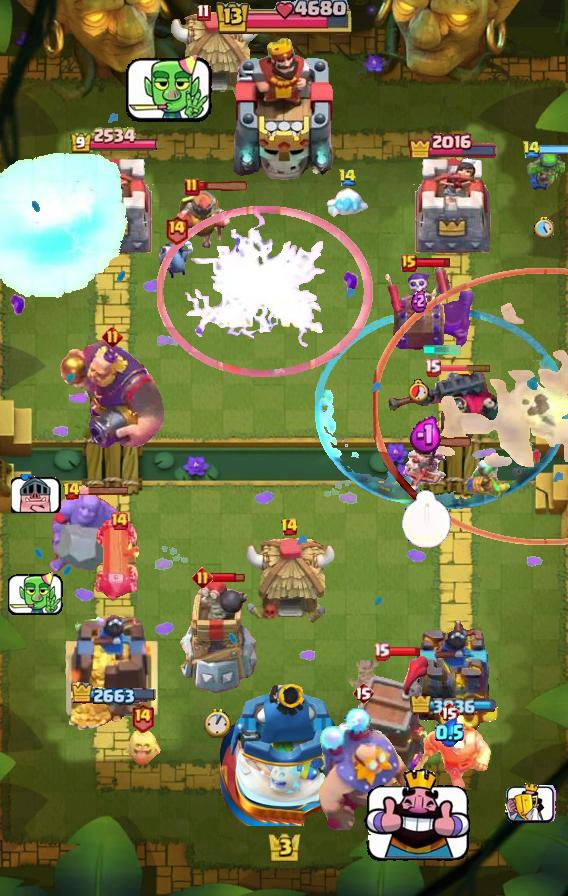archer-queen: (44, 490, 126, 578)
barbarian-evolution: (158, 206, 375, 378)
bat: (326, 186, 368, 224)
bat-evolution: (121, 729, 163, 767)
battle-healer: (92, 520, 146, 602)
bomb-tower: (435, 291, 473, 351)
clock: (213, 0, 355, 38)
dart-goblin: (352, 656, 430, 776)
earthquake: (175, 186, 233, 250)
electro-spirit: (408, 416, 444, 455), (435, 717, 464, 746), (411, 289, 427, 313)
elixir: (400, 490, 452, 549), (205, 708, 232, 738), (409, 378, 429, 402), (534, 217, 554, 239)
emote: (78, 484, 130, 496), (198, 180, 250, 191), (422, 437, 474, 448), (438, 363, 492, 372), (210, 571, 245, 583), (416, 257, 453, 268), (387, 647, 421, 658), (538, 145, 568, 156)
fisherman: (345, 659, 389, 709)
giant-snowball: (463, 456, 513, 500), (523, 152, 565, 192)
goblin-hut: (405, 716, 493, 792)
ice-spirit: (422, 345, 462, 355)
inferno-tower: (384, 367, 500, 453)
king-tower: (219, 678, 349, 826), (228, 35, 340, 181)
lightning: (56, 337, 168, 449)
little-prince: (309, 706, 417, 832)
mega-knight: (0, 152, 131, 302)
pad_0: (316, 307, 568, 513)
prince: (167, 10, 261, 100), (242, 536, 336, 626)
queen-tower: (62, 613, 165, 731), (405, 617, 501, 731), (74, 157, 154, 256), (413, 157, 493, 256)
royal-delivery: (156, 237, 196, 281)
royal-ghost: (373, 267, 568, 545)
selected: (409, 130, 500, 158), (69, 127, 159, 155), (70, 682, 157, 708), (411, 696, 498, 715)
skeleton: (364, 768, 471, 864), (125, 48, 215, 126), (7, 568, 65, 618), (505, 783, 557, 824), (10, 474, 61, 513)
skeleton-dragon: (404, 439, 448, 499)
skeleton-king-bar: (385, 266, 453, 352)
text: (163, 214, 188, 245), (130, 702, 154, 733), (352, 681, 374, 705), (438, 701, 460, 725), (101, 325, 122, 347), (192, 567, 213, 588), (109, 511, 129, 531), (338, 169, 358, 188), (63, 481, 82, 501), (280, 517, 299, 537), (523, 141, 542, 160), (423, 358, 440, 377), (373, 643, 390, 662), (184, 177, 200, 197), (401, 254, 417, 272), (197, 3, 211, 21)
zappy: (173, 579, 264, 695)
